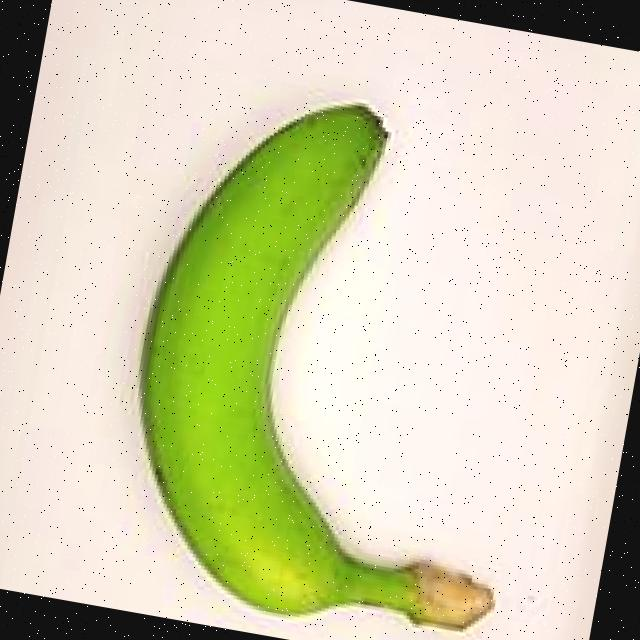Unripe: (39, 15, 634, 640)
